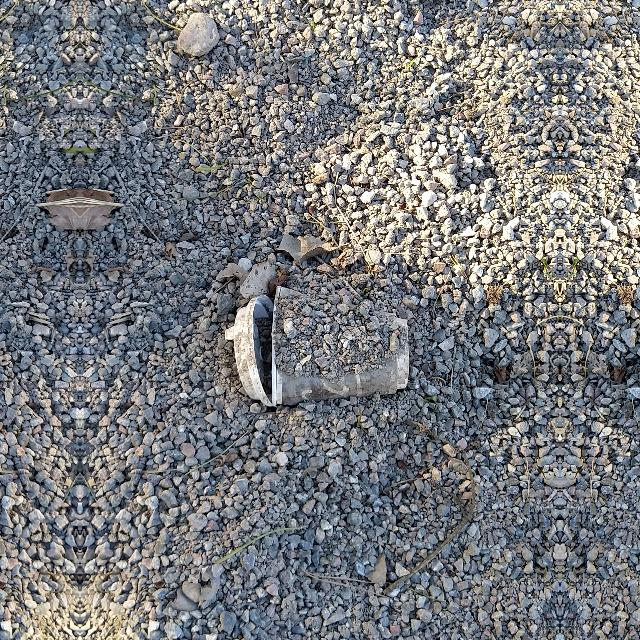Plastic: (266, 282, 412, 410), (221, 281, 281, 417)
